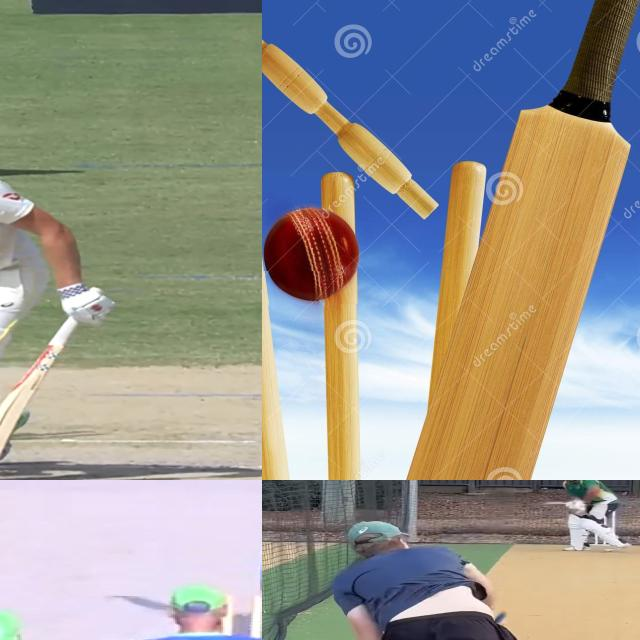Cricket ball: (262, 203, 362, 304)
Stumps: (262, 129, 493, 480)
